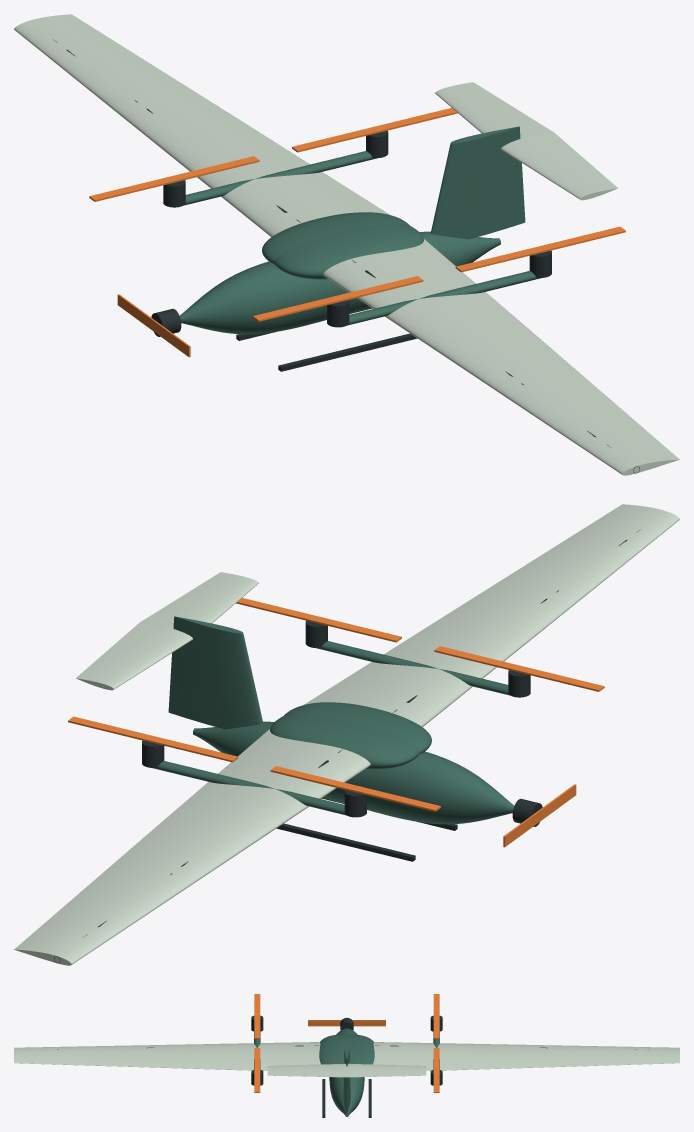
Rendered from control-10-model.glb.
3 views of the same model, one above another, from view 1: azimuth 30°, elevation 25°; view 2: azimuth 150°, elevation 25°; view 3: azimuth 270°, elevation 25° (orthographic). The views are drawn at different scales.
Visible parts, largest first — view 1: wing-1, wing1, fuselage, fin, root_fairing-1, tail-1, tail1, root_fairing1, boom_fairing-1, boom_fairing1, prop_1_200.0, prop_-1_200.0 (+4 smaller); view 2: wing1, wing-1, fuselage, fin, root_fairing1, tail1, tail-1, root_fairing-1, boom_fairing1, boom_fairing-1, prop_-1_200.0, prop_1_200.0 (+4 smaller); view 3: wing-1, wing1, tail-1, tail1, fuselage, root_fairing-1, root_fairing1, cruise_prop, fin, prop_-1_200.0, prop_-1_700.0, prop_1_200.0 (+1 smaller).
Part boxes in pixels (x1,y1,x2,y2): wing-1: (323, 239, 679, 475); wing1: (14, 14, 389, 236); fuselage: (179, 231, 500, 334); fin: (431, 126, 525, 239); root_fairing-1: (273, 223, 423, 279); tail-1: (501, 132, 617, 200); tail1: (435, 82, 553, 138); root_fairing1: (262, 212, 409, 263); boom_fairing-1: (347, 271, 541, 325); boom_fairing1: (184, 151, 377, 205); prop_1_200.0: (89, 156, 259, 201); prop_-1_200.0: (253, 276, 423, 321); wing1: (14, 729, 370, 965); wing-1: (304, 504, 679, 726); fuselage: (193, 721, 514, 824); fin: (168, 616, 262, 729); root_fairing1: (270, 713, 420, 769); tail1: (76, 622, 192, 690); tail-1: (140, 572, 258, 628); root_fairing-1: (284, 702, 431, 753); boom_fairing1: (152, 761, 346, 815); boom_fairing-1: (316, 641, 509, 695); prop_-1_200.0: (434, 646, 604, 691); prop_1_200.0: (270, 766, 440, 811); wing-1: (14, 1042, 320, 1070); wing1: (373, 1042, 679, 1070); tail-1: (267, 1063, 346, 1077); tail1: (347, 1063, 426, 1077); fuselage: (329, 1028, 364, 1116); root_fairing-1: (319, 1034, 346, 1064); root_fairing1: (347, 1034, 374, 1064); cruise_prop: (308, 1020, 385, 1026); fin: (343, 1042, 350, 1114); prop_-1_200.0: (254, 994, 260, 1038); prop_-1_700.0: (254, 1048, 260, 1092); prop_1_200.0: (433, 994, 439, 1038).
Size of the model in its own units: 989 by 390 by 2600.
